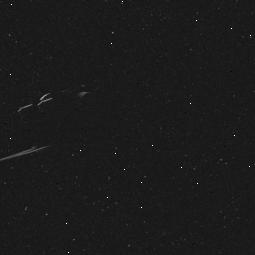proba_3_csc: (0, 81, 103, 159)
